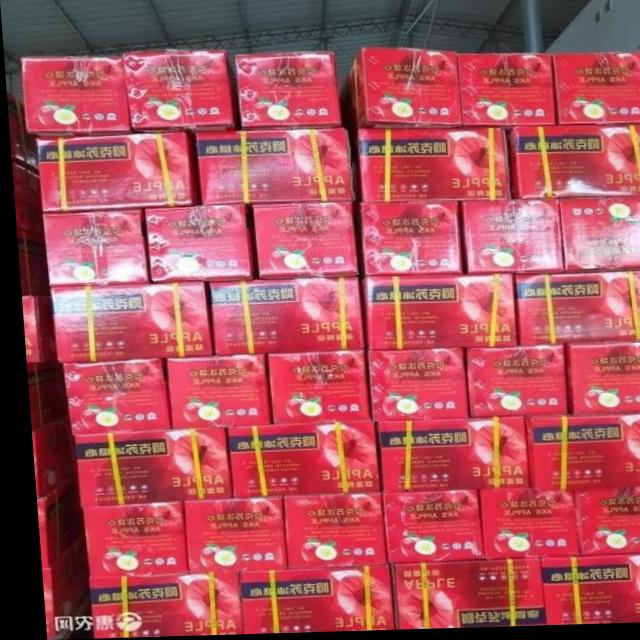box: (31, 133, 198, 211), (45, 283, 205, 364), (191, 131, 355, 206), (202, 278, 360, 355), (68, 428, 223, 506), (357, 275, 511, 352), (220, 423, 374, 500), (368, 420, 519, 495), (354, 130, 508, 202), (382, 561, 538, 632), (232, 566, 384, 635), (503, 126, 640, 202), (338, 48, 463, 131), (77, 573, 234, 639), (510, 274, 640, 348), (122, 48, 232, 134), (17, 55, 130, 137), (519, 416, 640, 491), (245, 202, 358, 280), (140, 205, 250, 284), (57, 358, 165, 436), (233, 52, 338, 130), (37, 209, 141, 286), (158, 355, 263, 430), (531, 557, 640, 628), (357, 202, 460, 277), (360, 349, 463, 424), (276, 494, 376, 571), (74, 503, 178, 577), (459, 201, 560, 277), (459, 347, 563, 420), (260, 351, 363, 424), (178, 499, 278, 573), (375, 492, 476, 565), (456, 55, 553, 130), (471, 491, 572, 563), (549, 54, 640, 127), (555, 200, 640, 276), (560, 345, 640, 419), (563, 489, 640, 558), (33, 534, 78, 636), (30, 477, 76, 569), (25, 419, 66, 497), (17, 295, 51, 363), (28, 363, 61, 426), (10, 164, 38, 235), (19, 230, 44, 296), (13, 229, 26, 296), (21, 363, 34, 429)
